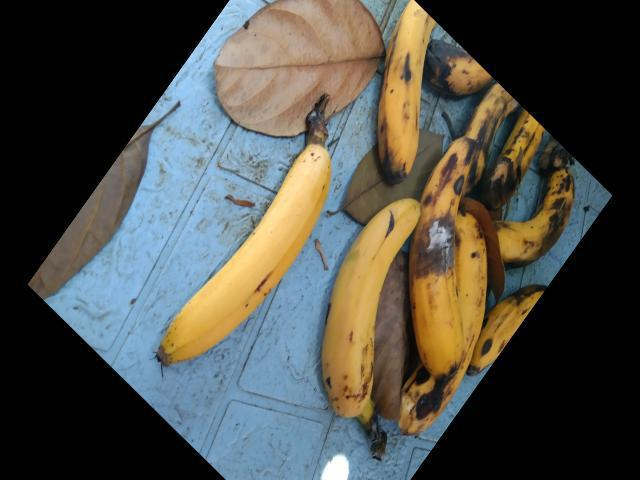freshripe: (137, 146, 332, 376)
ripe: (312, 189, 415, 434), (362, 0, 437, 167)
rotten: (409, 128, 493, 381)
